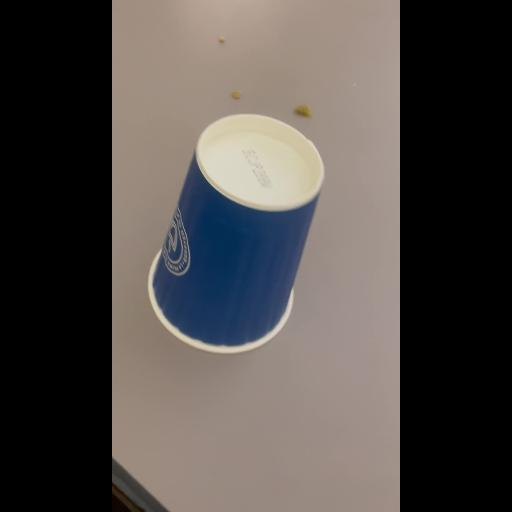lp_paper_cup: (146, 114, 328, 352)
